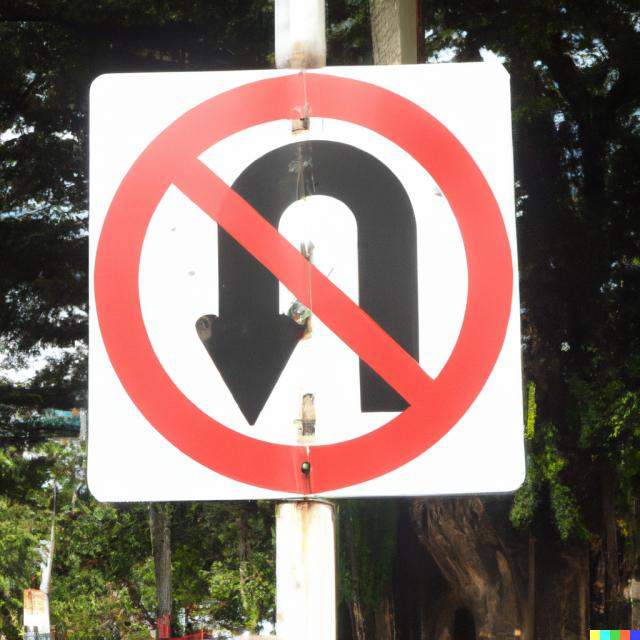no u turn: (92, 66, 506, 496)
